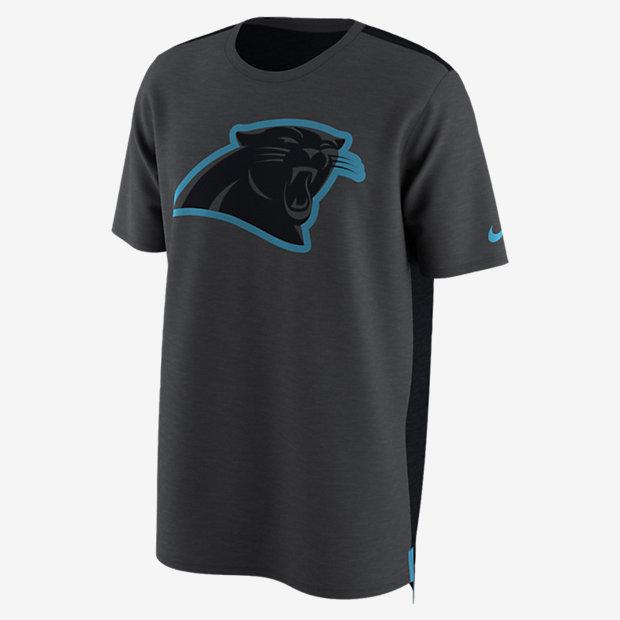teeshirt: (98, 11, 516, 609)
